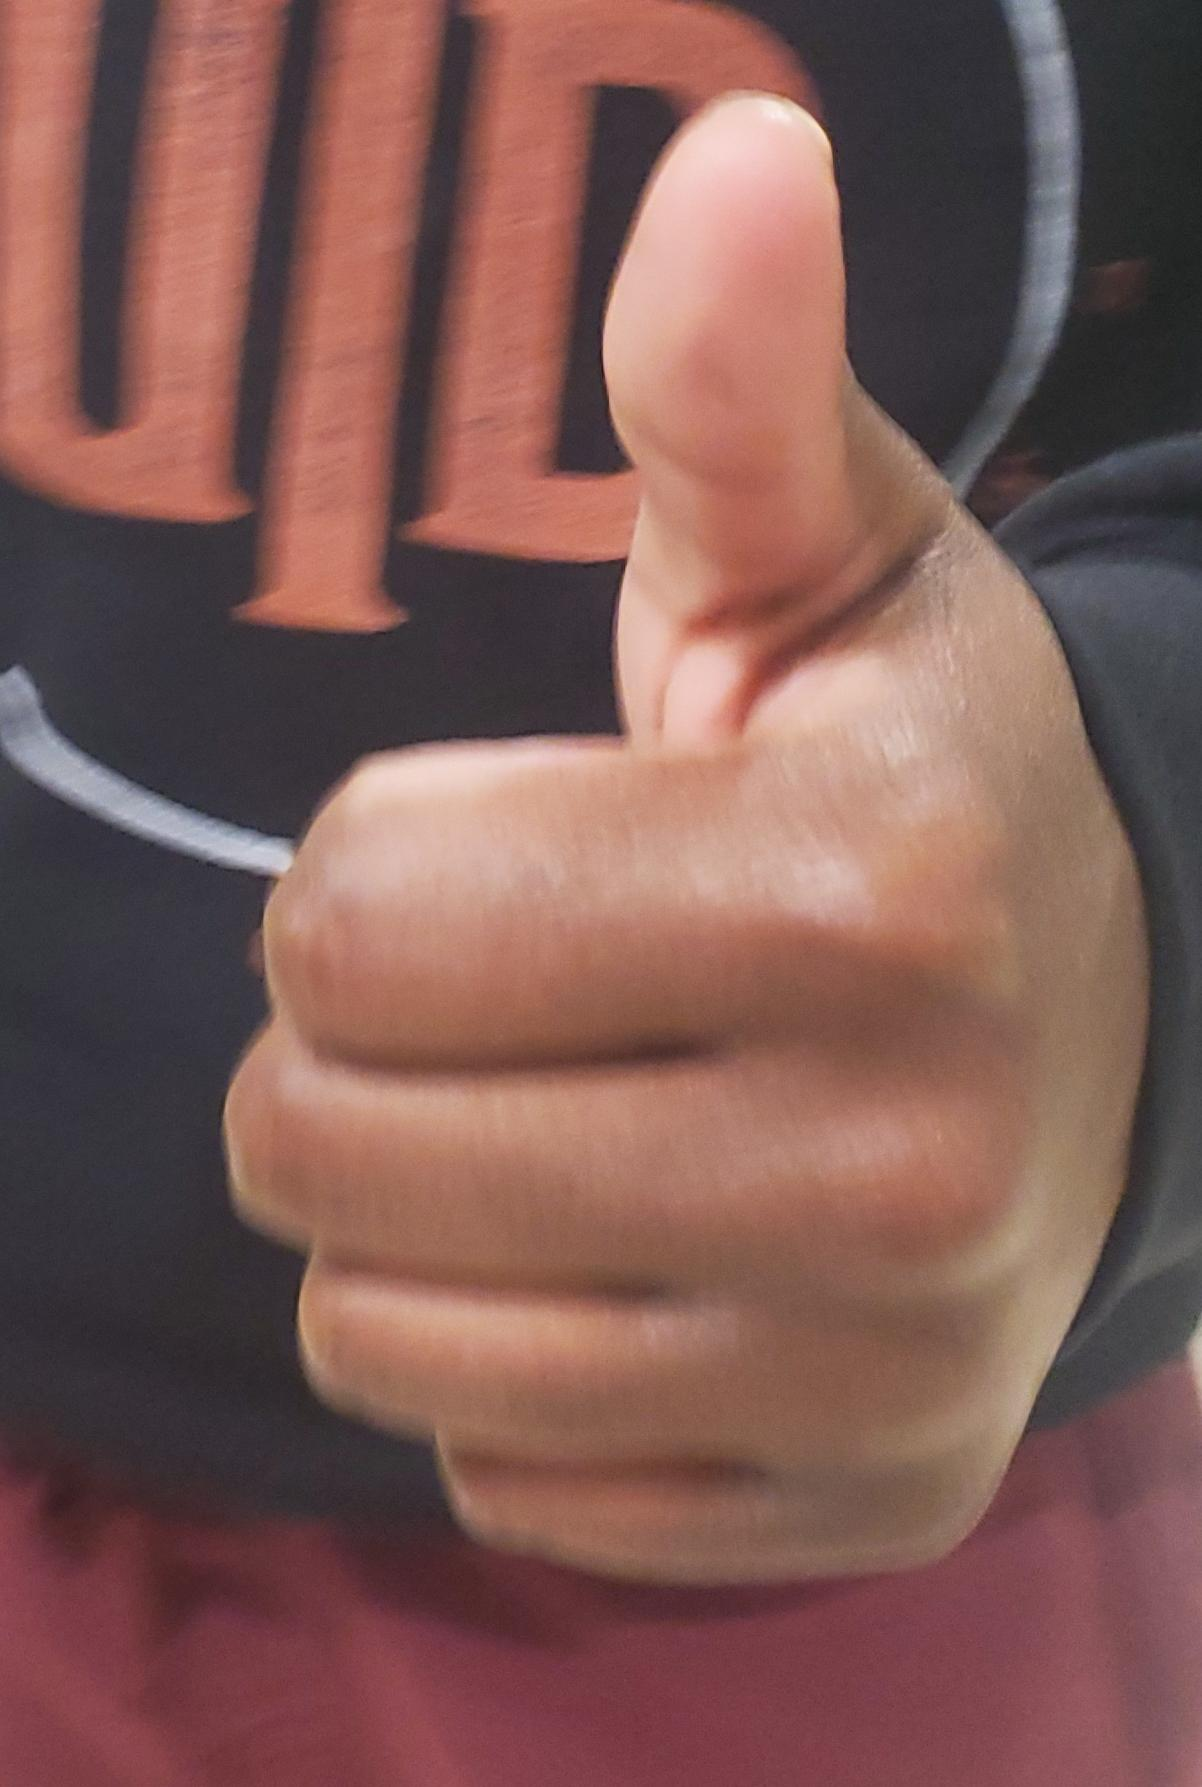up: (0, 1, 1202, 1787)
